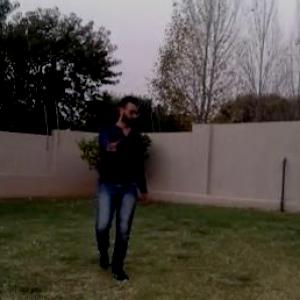takeoff-hand: (102, 130, 127, 156)
